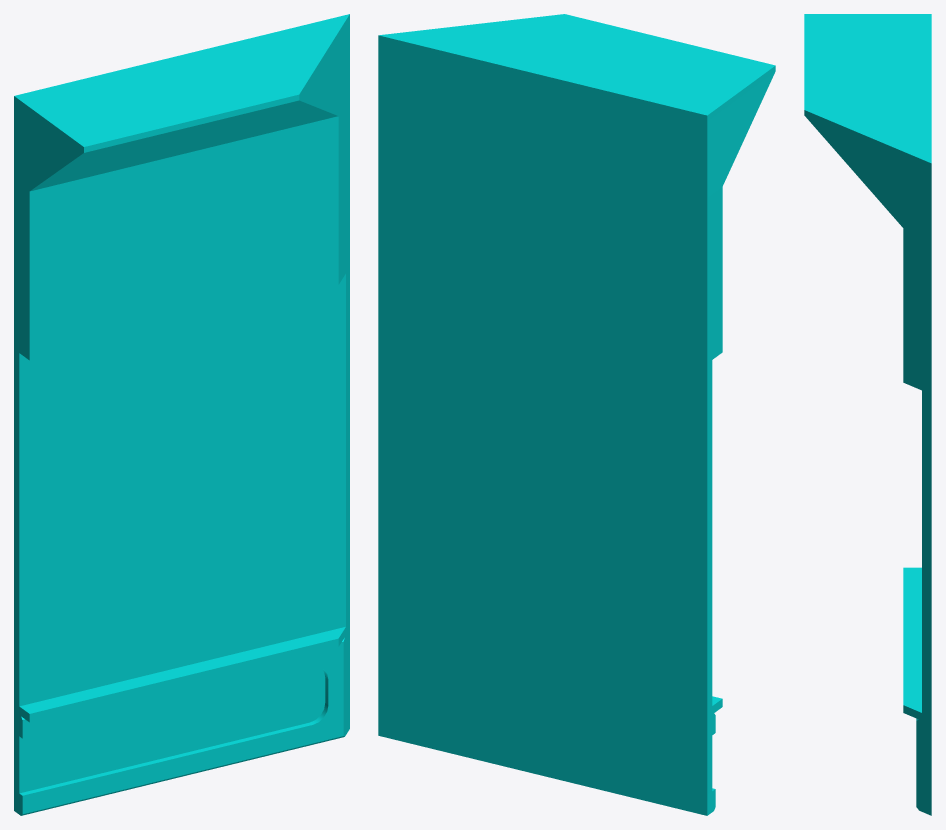
File: BasementTallWallB.fbx
3 renders of one model, left to right at view 1: azimuth 30°, elevation 25°; view 2: azimuth 150°, elevation 25°; view 3: azimuth 270°, elevation 25°, orthographic. The views are drawn at different scales.
Parts seen in each view (by area): view 1: BasementTallWallB; view 2: BasementTallWallB; view 3: BasementTallWallB.
Boxes of the visible parts, x1=… form: BasementTallWallB: x1=14, y1=14, x2=349, y2=815; BasementTallWallB: x1=378, y1=14, x2=775, y2=815; BasementTallWallB: x1=804, y1=14, x2=931, y2=815.
Size of the model in its own units: 368 by 749 by 133.
